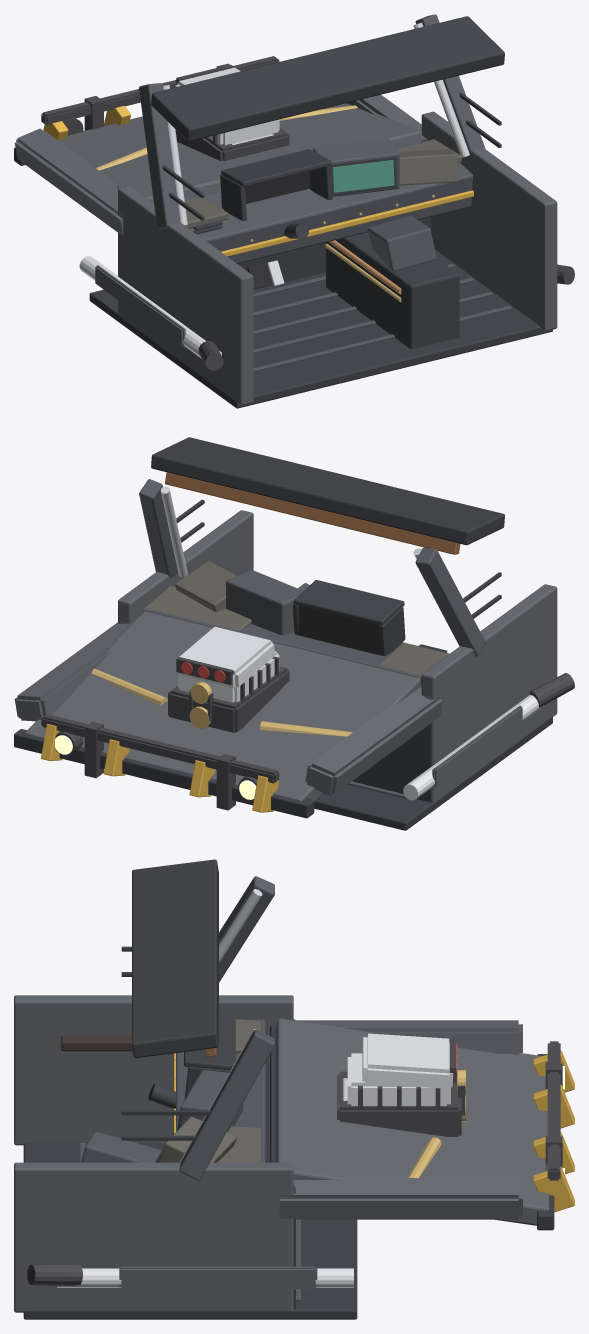
File: cockpit_interior.glb
3 renders of one model, top to bottom at view 1: azimuth 30°, elevation 25°; view 2: azimuth 150°, elevation 25°; view 3: azimuth 270°, elevation 25°, orthographic. The views are drawn at different scales.
Visible parts, largest first — view 1: RoofHeader, FloorPan, LeftDoorArmor, RightDoorArmor, ExteriorHood, DashMainDeck, TransmissionTunnel, V8_FenderFlare_L, PillarLeft, ShifterPedestal, BinnacleTop, ControlDeckRight (+24 smaller); view 2: ExteriorHood, LeftDoorArmor, RoofHeader, V8_FenderFlare_L, RightDoorArmor, FloorPan, VisorArmorPlate, V8_FenderFlare_R, CenterConsolePod, V8_ScoopHousing, FrontRamBar, V8_BullBarTop (+25 smaller); view 3: RightDoorArmor, ExteriorHood, LeftDoorArmor, RoofHeader, V8_FenderFlare_R, FloorPan, V8_ScoopHousing, V8_HeatShield_R, PillarRight, V8_FenderFlare_L, V8_BlowerBase, DashMainDeck (+15 smaller).
Part boxes in pixels (x1,y1,x2,y2): RoofHeader: (151,16,504,141); FloorPan: (89,249,552,408); LeftDoorArmor: (118,186,253,405); RightDoorArmor: (421,111,557,331); ExteriorHood: (58,103,421,202); DashMainDeck: (184,139,472,263); TransmissionTunnel: (326,232,459,348); V8_FenderFlare_L: (14,128,123,235); PillarLeft: (139,83,180,229); ShifterPedestal: (368,215,436,271); BinnacleTop: (221,149,331,186); ControlDeckRight: (398,149,457,185); ExteriorHood: (25,611,421,802); LeftDoorArmor: (421,584,557,802); RoofHeader: (151,437,504,545); V8_FenderFlare_L: (305,687,442,795); RightDoorArmor: (118,510,253,623); FloorPan: (314,716,552,830); VisorArmorPlate: (165,472,460,554); V8_FenderFlare_R: (14,620,134,721); CenterConsolePod: (226,570,303,635); V8_ScoopHousing: (175,626,274,689); FrontRamBar: (14,729,314,818); V8_BullBarTop: (41,714,279,783); RightDoorArmor: (14,1162,293,1312); ExteriorHood: (275,1018,549,1225); LeftDoorArmor: (14,995,293,1145); RoofHeader: (132,859,218,1057); V8_FenderFlare_R: (279,1178,522,1219); FloorPan: (23,1143,357,1319); V8_ScoopHousing: (362,1033,453,1090); V8_HeatShield_R: (119,1266,317,1288); PillarRight: (179,1029,274,1180); V8_FenderFlare_L: (296,1020,522,1055); V8_BlowerBase: (337,1071,461,1136); DashMainDeck: (176,1019,269,1162).
Bounding box in the file's own units: 2.24 × 1.47 × 2.61.
